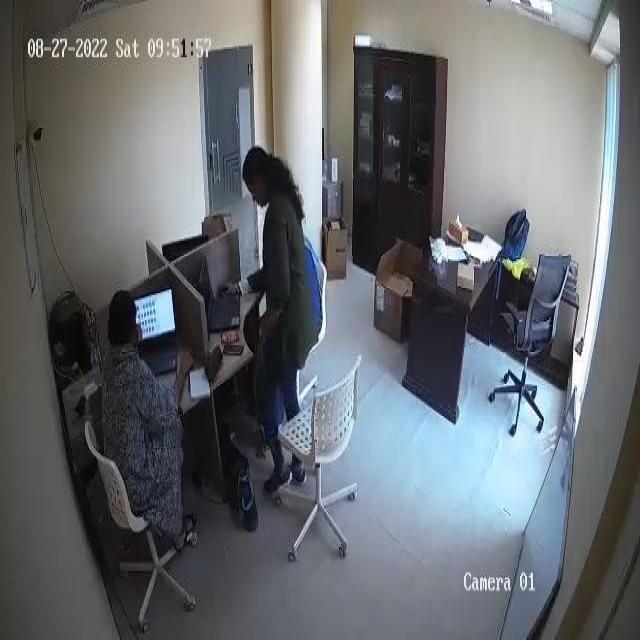bare_hand: (175, 340, 201, 384), (216, 273, 246, 303)
